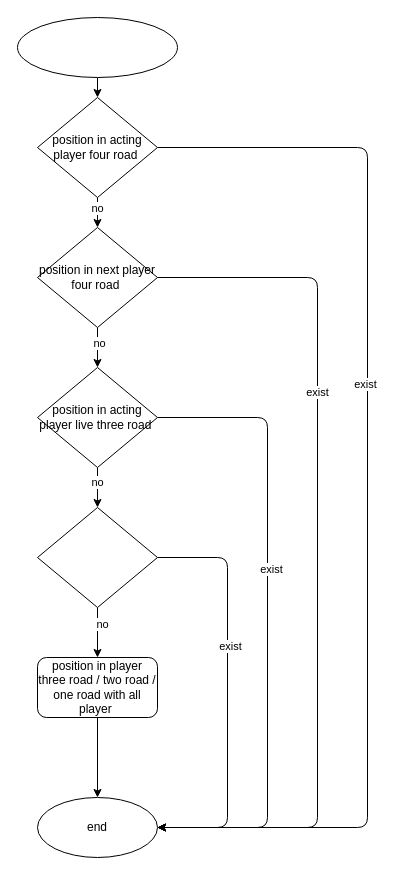
This 394x875 diagram has some shape labels left out. The centre of each missing label's shape, as x and y in pixels:
position in next player live three road: the point at 97,557
start: the point at 97,47
